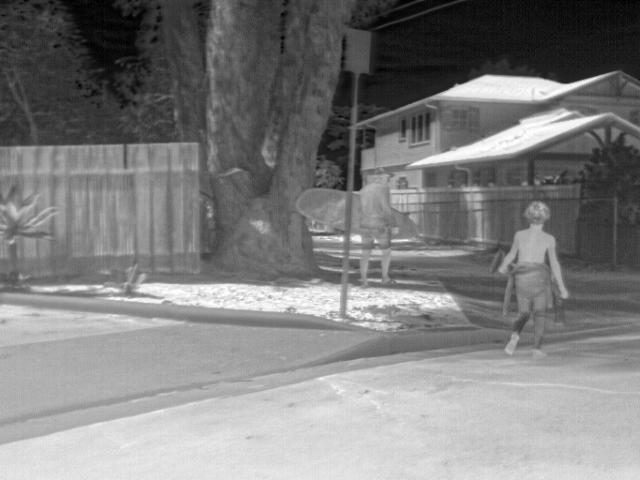dog: (490, 246, 509, 272)
person: (496, 200, 571, 358), (357, 166, 397, 289)
